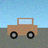vehicle: (7, 18, 37, 39)
